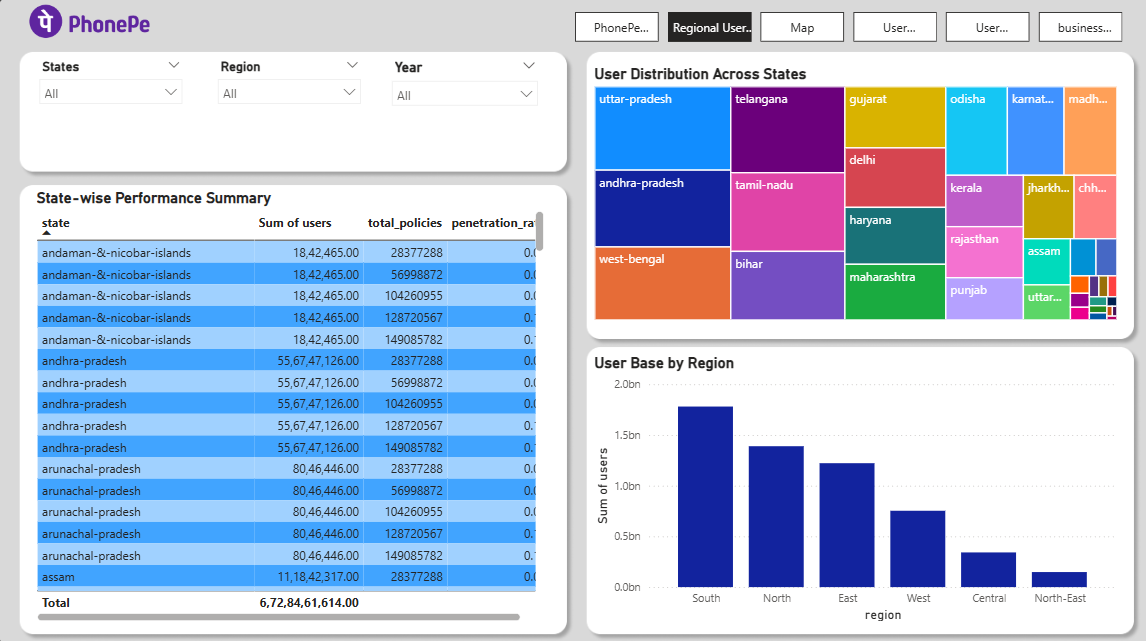

This screenshot's page, from the dashboard's own definition file:
{"tool":"powerbi","page":{"name":"Regional User & Insurance Analysis","canvas":[1280,720],"ordinal":1},"visuals":[{"type":"treemap","title":"User Distribution Across States","fields":{"Group":["vw_state_kpi.state"],"Values":["Sum(vw_state_kpi.users)"]},"box":[656.7,71.7,590,288.3],"z":0},{"type":"tableEx","title":"State-wise Performance Summary","fields":{"Values":["vw_state_rank.state","Sum(vw_state_rank.users)","vw_master_year_kpi.total_policies","vw_penetration.penetration_rate"]},"box":[36.7,210,573.3,485],"z":1000},{"type":"slicer","fields":{"Values":["vw_final_dashboard.state"]},"box":[35,60,178.3,123.3],"z":2000},{"type":"slicer","fields":{"Values":["vw_final_dashboard.region"]},"box":[233.3,60,178.3,123.3],"z":3000},{"type":"slicer","fields":{"Values":["vw_final_dashboard.year"]},"box":[426.7,60,181.7,123.3],"z":4000},{"type":"columnChart","title":"User Base by Region","fields":{"Category":["vw_final_dashboard.region"],"Y":["Sum(vw_final_dashboard.users)"]},"box":[656.7,393.3,590,301.7],"z":5000},{"type":"pageNavigator","box":[640,13.8,611.2,33.8],"z":6000},{"type":"image","box":[0,0,200,48.3],"z":6001}]}

Visuals, with their boxes on the page's 1280x720 design canvas (x1, y1, x2, y2). These are canvas units, not pixel positions in the 1146x641 screenshot, which may show the page scaled, cropped or inside an application window:
"User Distribution Across States" treemap: 657/72/1247/360
"State-wise Performance Summary" tableEx: 37/210/610/695
slicer - vw_final_dashboard.state: 35/60/213/183
slicer - vw_final_dashboard.region: 233/60/412/183
slicer - vw_final_dashboard.year: 427/60/608/183
"User Base by Region" columnChart: 657/393/1247/695
pageNavigator: 640/14/1251/48
image: 0/0/200/48
